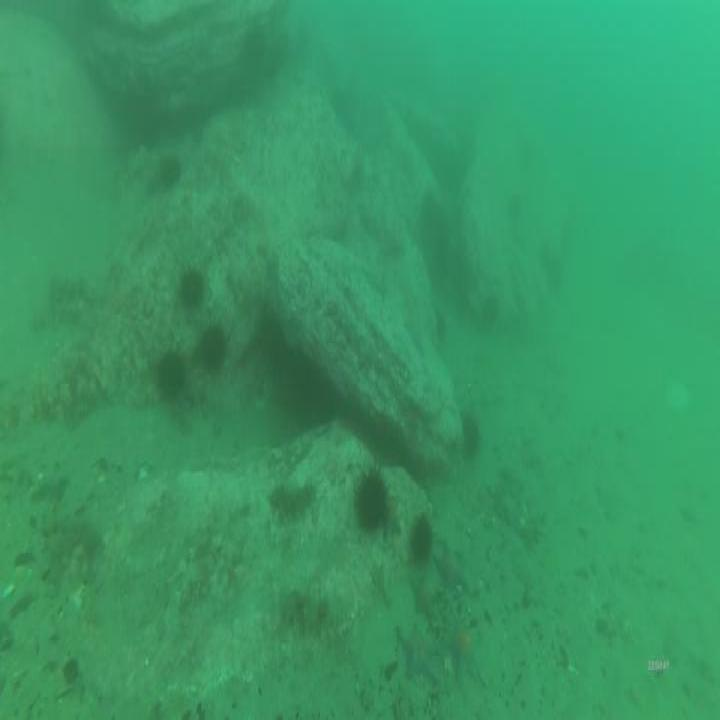echinus: (349, 459, 393, 537), (153, 343, 188, 409), (408, 512, 442, 576), (199, 317, 232, 375), (175, 261, 206, 315), (457, 404, 484, 465), (238, 20, 268, 66), (155, 149, 184, 192)
holothurian: (280, 586, 335, 642), (265, 476, 321, 526)
starfish: (392, 619, 444, 686), (443, 610, 483, 681), (432, 537, 470, 597), (408, 571, 443, 624)
